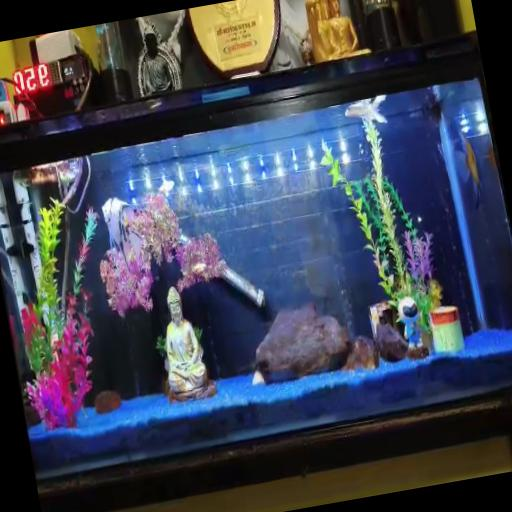Fish: (102, 198, 140, 267), (452, 131, 479, 210), (454, 131, 479, 208), (345, 95, 386, 123), (487, 146, 496, 171), (158, 178, 173, 193)
